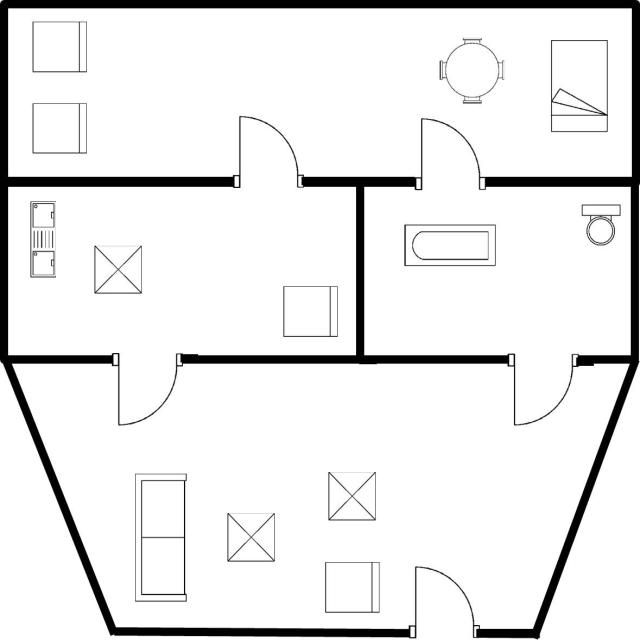bed: (543, 35, 613, 137)
coffee_table: (321, 466, 382, 526), (221, 508, 279, 566), (91, 242, 145, 298)
large_sink: (576, 202, 623, 250)
large_sofa: (129, 468, 192, 608), (278, 280, 341, 344)
round_table: (437, 32, 509, 108)
small_sofa: (318, 556, 387, 619), (27, 97, 92, 161), (28, 17, 92, 77)
tub: (400, 220, 499, 270)
